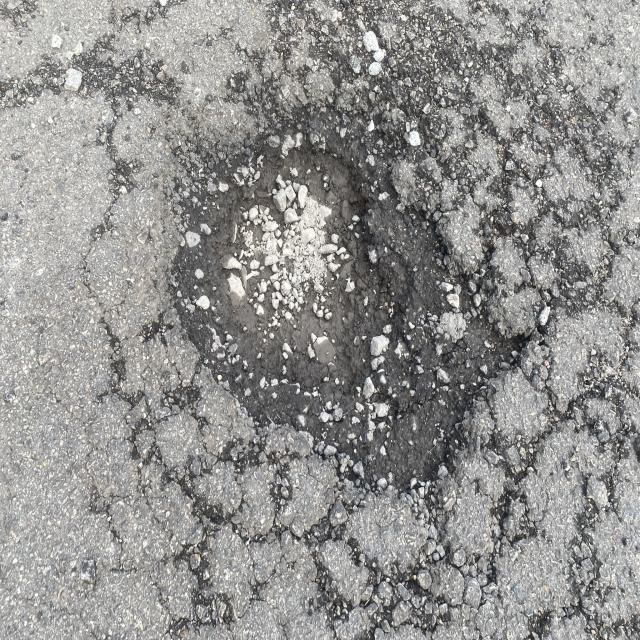pothole: (152, 90, 622, 538)
